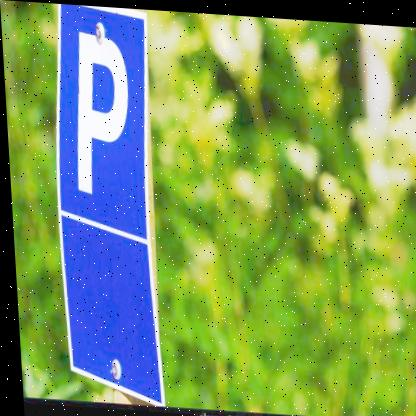Parking: (52, 3, 162, 232)
